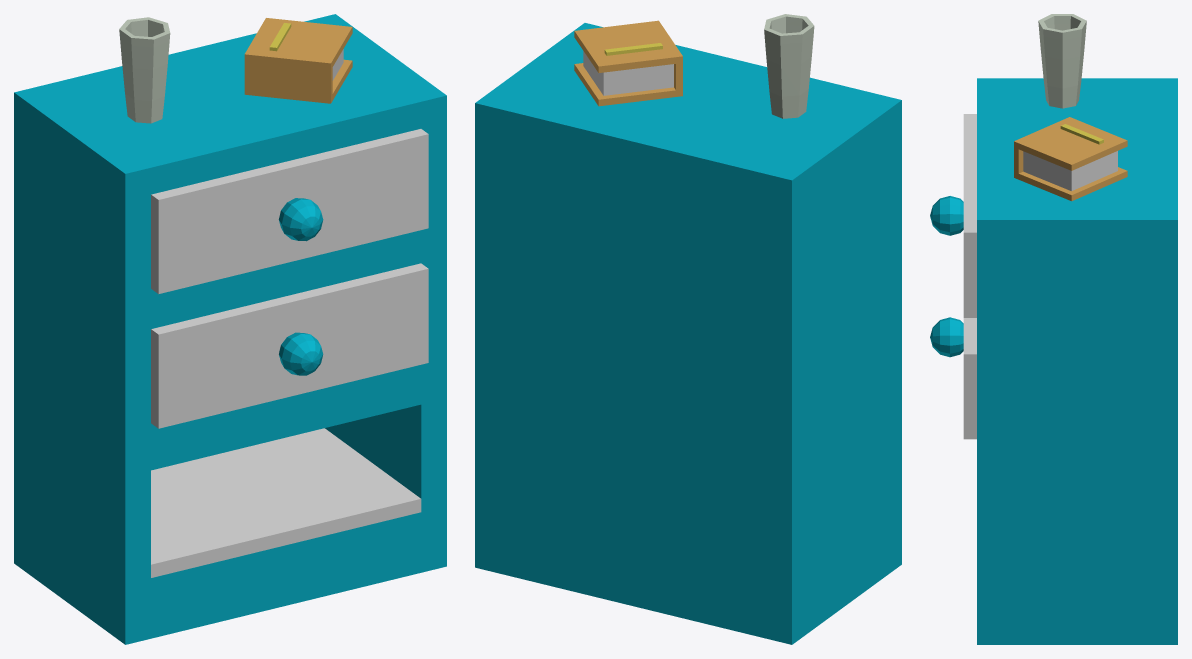
File: Mighty Hango-Juttuli.glb
3 views of the same model, side by side, from view 1: azimuth 30°, elevation 25°; view 2: azimuth 150°, elevation 25°; view 3: azimuth 270°, elevation 25° (orthographic). The views are drawn at different scales.
Parts seen in each view (by area): view 1: Mesh_Mesh_head_geo.001_lambert2SG.001; view 2: Mesh_Mesh_head_geo.001_lambert2SG.001; view 3: Mesh_Mesh_head_geo.001_lambert2SG.001.
Part boxes in pixels (x1,y1,x2,y2): Mesh_Mesh_head_geo.001_lambert2SG.001: [14, 14, 446, 644]; Mesh_Mesh_head_geo.001_lambert2SG.001: [475, 14, 901, 644]; Mesh_Mesh_head_geo.001_lambert2SG.001: [930, 14, 1177, 644].
Bounding box in the file's own units: 50 × 84 × 37.
